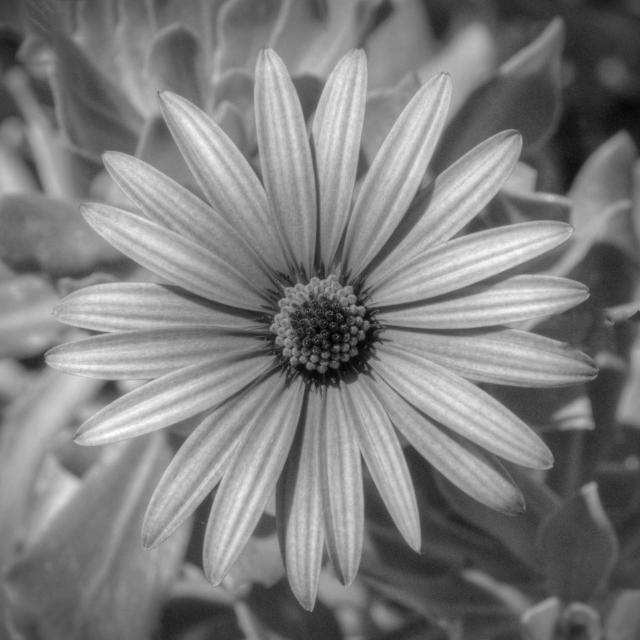Flower: (42, 44, 606, 616)
